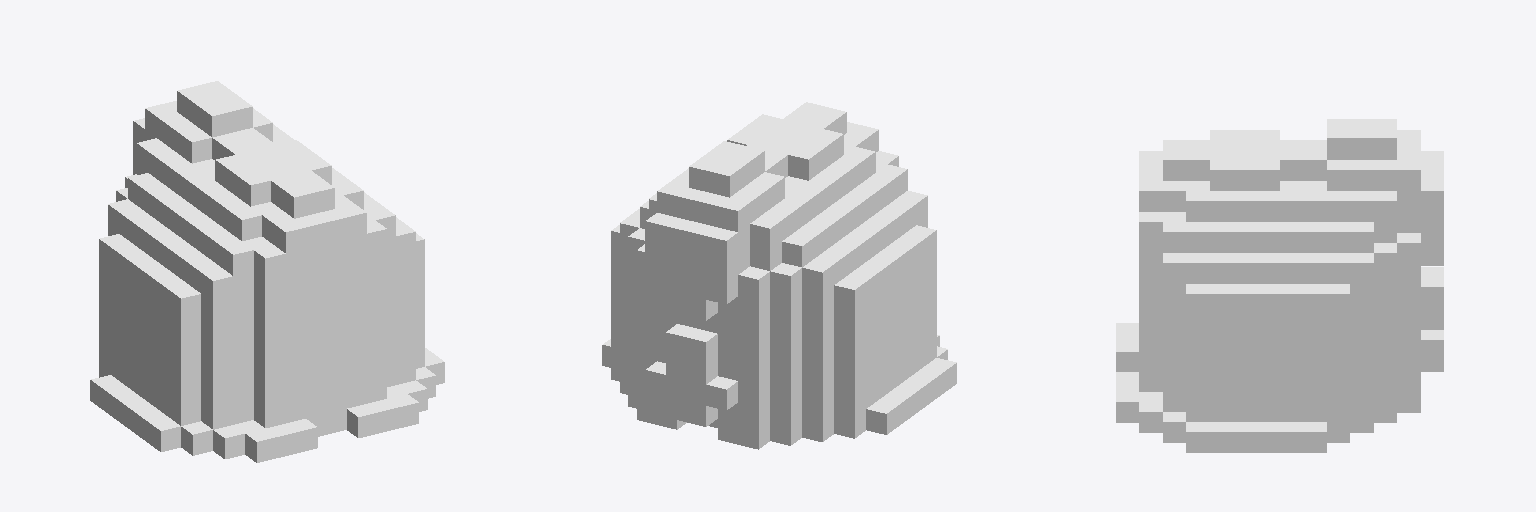
Rendered from SnailStoneGreen.vox.obj.
The picture shows the model from 3 angles: view 1: azimuth 30°, elevation 25°; view 2: azimuth 150°, elevation 25°; view 3: azimuth 270°, elevation 25°; orthographic projection.
Parts seen in each view (by area): view 1: object 1; view 2: object 1; view 3: object 1.
Boxes of the visible parts, x1,y1,x2,y2 form: object 1: [90, 81, 444, 462]; object 1: [602, 102, 956, 449]; object 1: [1116, 119, 1443, 452].
Size of the model in its own units: 1.4 by 1.2 by 1.4.